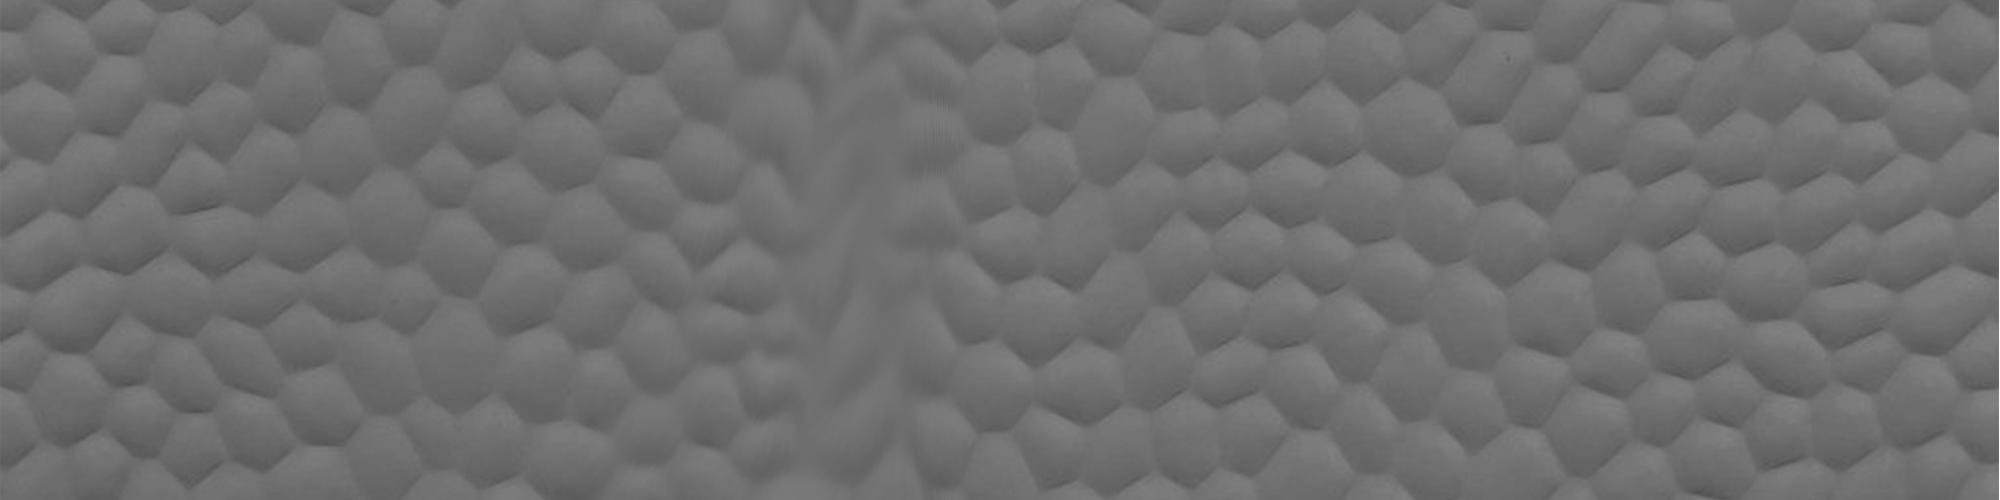Flow_Lines: (744, 38, 946, 490)
